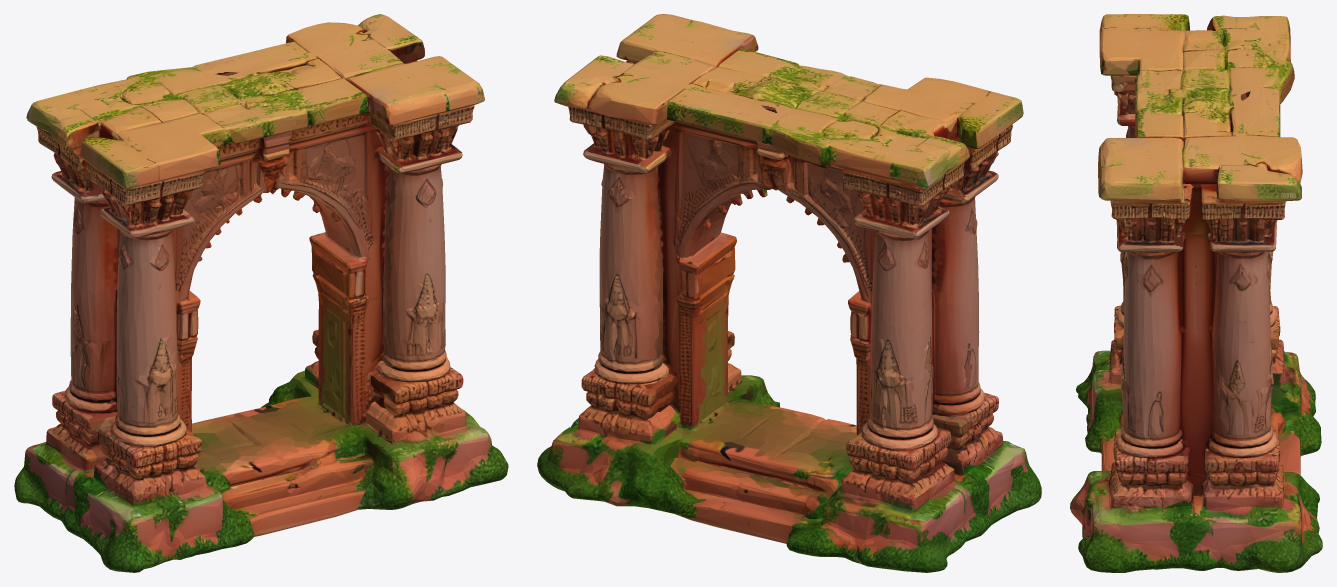
The model's file is left-archway-pillar-segment-optimized.glb.
The picture shows the model from 3 angles, left to right: view 1: azimuth 30°, elevation 25°; view 2: azimuth 150°, elevation 25°; view 3: azimuth 270°, elevation 25°; orthographic projection. The views are drawn at different scales.
Parts seen in each view (by area): view 1: e42e0f6f-eb03-4bd0-aafd-4f503a223965_texturing; view 2: e42e0f6f-eb03-4bd0-aafd-4f503a223965_texturing; view 3: e42e0f6f-eb03-4bd0-aafd-4f503a223965_texturing.
Part boxes in pixels (box(x1,y1,x2,y2)): e42e0f6f-eb03-4bd0-aafd-4f503a223965_texturing: box(14, 14, 508, 572); e42e0f6f-eb03-4bd0-aafd-4f503a223965_texturing: box(537, 14, 1041, 572); e42e0f6f-eb03-4bd0-aafd-4f503a223965_texturing: box(1070, 14, 1322, 572).
Size of the model in its own units: 3.5 by 3.38 by 1.98.
1 material, 1 textured.
